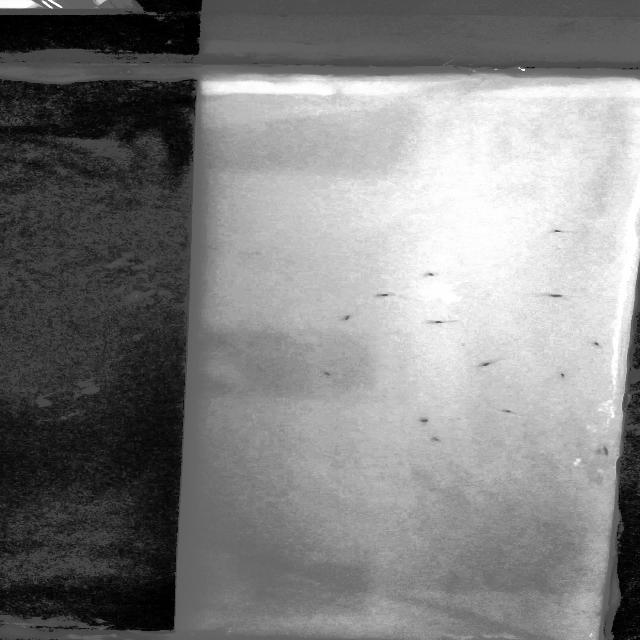shrimp: (370, 287, 428, 304), (482, 400, 524, 417), (542, 224, 580, 242), (399, 413, 444, 428), (533, 288, 577, 302), (546, 366, 575, 384), (469, 358, 506, 370), (420, 317, 460, 328), (580, 337, 608, 352), (416, 266, 442, 280), (330, 315, 362, 326)
